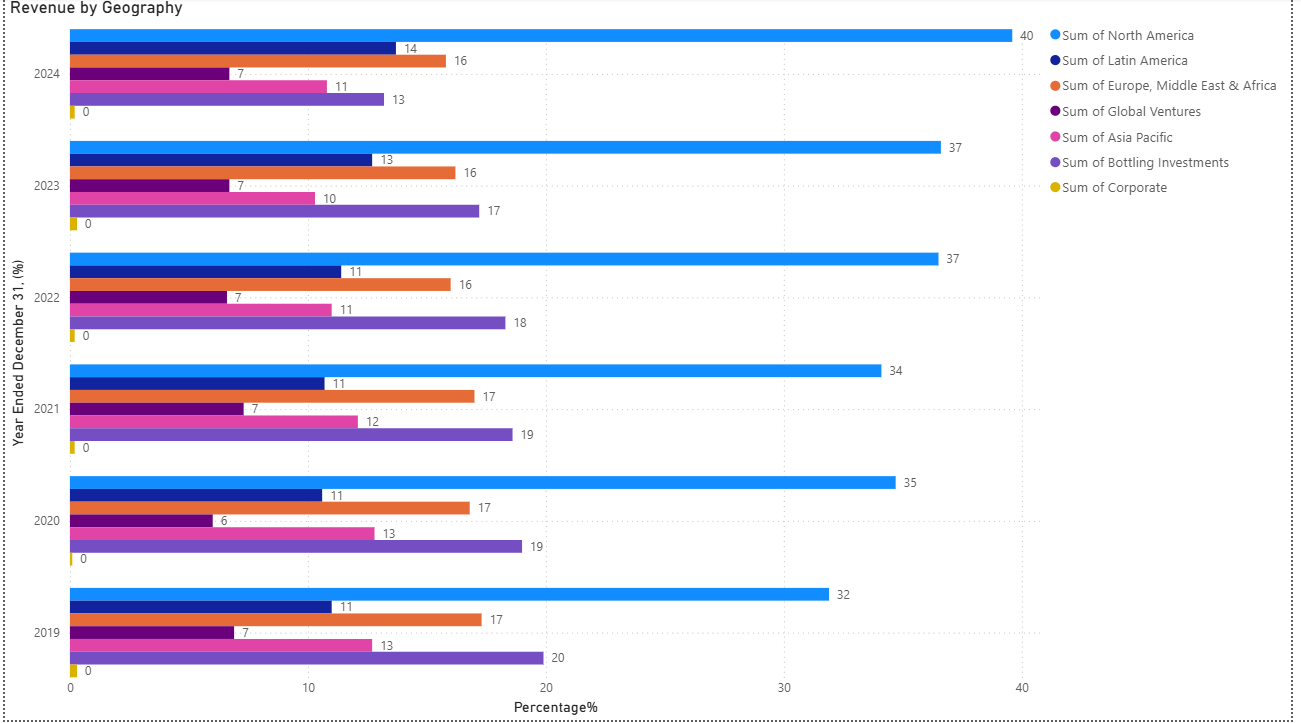

The dashboard page shown, as its layout file describes it:
{"tool":"powerbi","page":{"name":"Geography","canvas":[1280,720],"ordinal":4},"visuals":[{"type":"clusteredBarChart","title":"Revenue by Geography","fields":{"Category":["geography.Year Ended December 31, (%)"],"Y":["Sum(geography.North America)","Sum(geography.Latin America)","Sum(geography.Europe, Middle East & Africa)","Sum(geography.Global Ventures)","Sum(geography.Asia Pacific)","Sum(geography.Bottling Investments)","Sum(geography.Corporate)"]},"box":[0,0,1280,720],"z":0}]}

Visuals, with their boxes in screenshot pixels (x1, y1, x2, y2), scaled from the page's 1280x720 canvas onto the 1301x723 screenshot:
"Revenue by Geography" clusteredBarChart: x1=0, y1=0, x2=1300, y2=722
